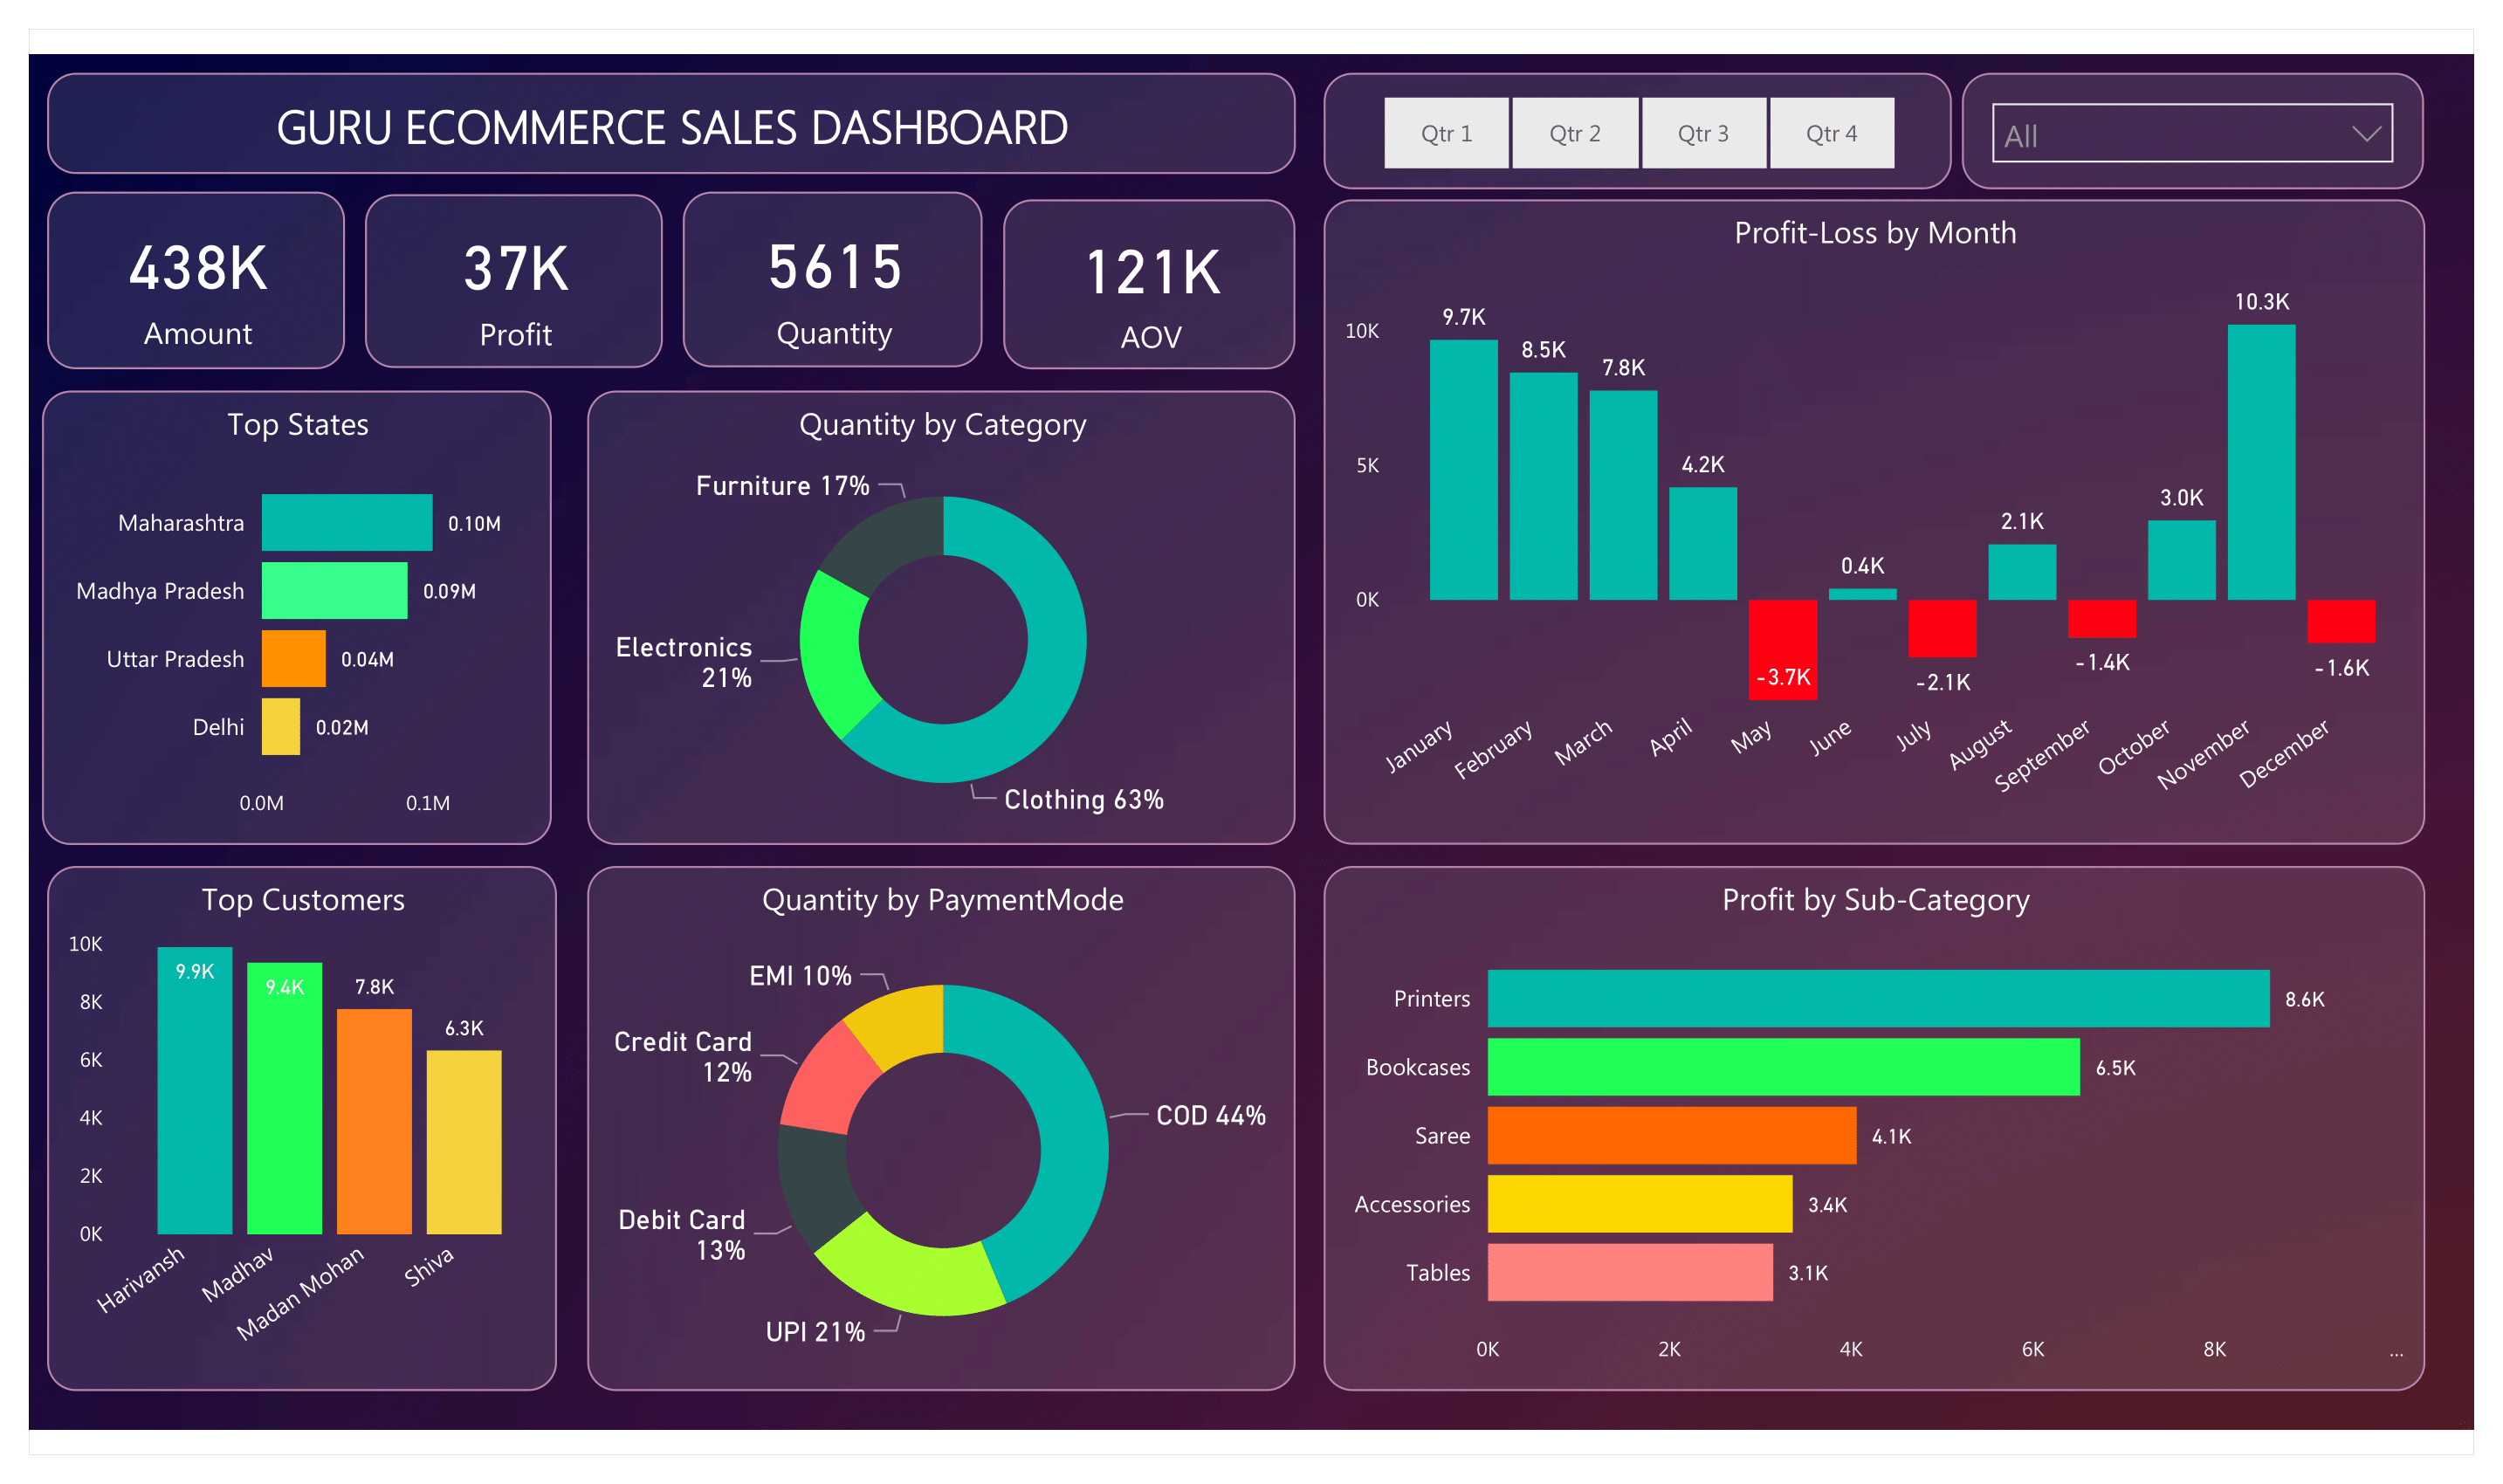

The dashboard page shown, as its layout file describes it:
{"tool":"powerbi","page":{"name":"Page 1","canvas":[1280,720],"ordinal":0},"visuals":[{"type":"textbox","box":[9.5,9.5,653.7,52.8],"z":0},{"type":"slicer","fields":{"Values":["Orders.Order Date.Variation.Date Hierarchy.Quarter"]},"box":[678,9.5,329,60.9],"z":1000},{"type":"slicer","fields":{"Values":["Orders.State"]},"box":[1012.3,9.5,242.3,60.9],"z":2000},{"type":"card","fields":{"Values":["Details.Profit"]},"box":[175.9,73.1,155.6,90.7],"z":3000},{"type":"card","fields":{"Values":["Details.AOV"]},"box":[510.2,75.8,152.9,89.3],"z":4000},{"type":"columnChart","title":"Profit-Loss by Month","fields":{"Category":["Orders.Order Date.Variation.Date Hierarchy.Month"],"Y":["Details.Profit"]},"box":[678,75.8,576.5,338.3],"z":5000},{"type":"barChart","title":"Profit by Sub-Category","fields":{"Y":["Details.Profit"],"Category":["Details.Sub-Category"]},"box":[678,425,576.5,274.7],"z":6000},{"type":"donutChart","fields":{"Category":["Details.Category"],"Y":["Details.Quantity"]},"box":[293,175.9,370.8,238.2],"z":7000},{"type":"donutChart","fields":{"Y":["Details.Quantity"],"Category":["Details.PaymentMode"]},"box":[292.3,425,370.8,274.7],"z":8000},{"type":"card","fields":{"Values":["Details.Amount"]},"box":[9.5,71.7,155.6,93.4],"z":9000},{"type":"card","fields":{"Values":["Details.Quantity"]},"box":[342.4,71.7,157,92],"z":10000},{"type":"barChart","title":"Top States","fields":{"Y":["Details.Amount"],"Category":["Orders.State"]},"box":[6.8,175.9,266.6,238.2],"z":11000},{"type":"columnChart","title":"Top Customers","fields":{"Y":["Details.Amount"],"Category":["Orders.CustomerName"]},"box":[9.5,425,266.6,274.7],"z":12000}]}

Visuals, with their boxes in screenshot pixels (x1, y1, x2, y2):
textbox: pyautogui.locateOnScreen(0, 45, 1287, 151)
slicer - Orders.Order Date.Variation.Date Hierarchy.Quarter: pyautogui.locateOnScreen(1317, 45, 1974, 167)
slicer - Orders.State: pyautogui.locateOnScreen(1984, 45, 2469, 167)
card - Details.Profit: pyautogui.locateOnScreen(313, 172, 623, 354)
card - Details.AOV: pyautogui.locateOnScreen(981, 177, 1287, 356)
"Profit-Loss by Month" columnChart: pyautogui.locateOnScreen(1317, 177, 2469, 854)
"Profit by Sub-Category" barChart: pyautogui.locateOnScreen(1317, 876, 2469, 1425)
donutChart - Details.Category x Details.Quantity: pyautogui.locateOnScreen(547, 378, 1288, 854)
donutChart - Details.Quantity x Details.PaymentMode: pyautogui.locateOnScreen(546, 876, 1287, 1425)
card - Details.Amount: pyautogui.locateOnScreen(0, 169, 291, 356)
card - Details.Quantity: pyautogui.locateOnScreen(645, 169, 959, 354)
"Top States" barChart: pyautogui.locateOnScreen(0, 378, 507, 854)
"Top Customers" columnChart: pyautogui.locateOnScreen(0, 876, 512, 1425)
